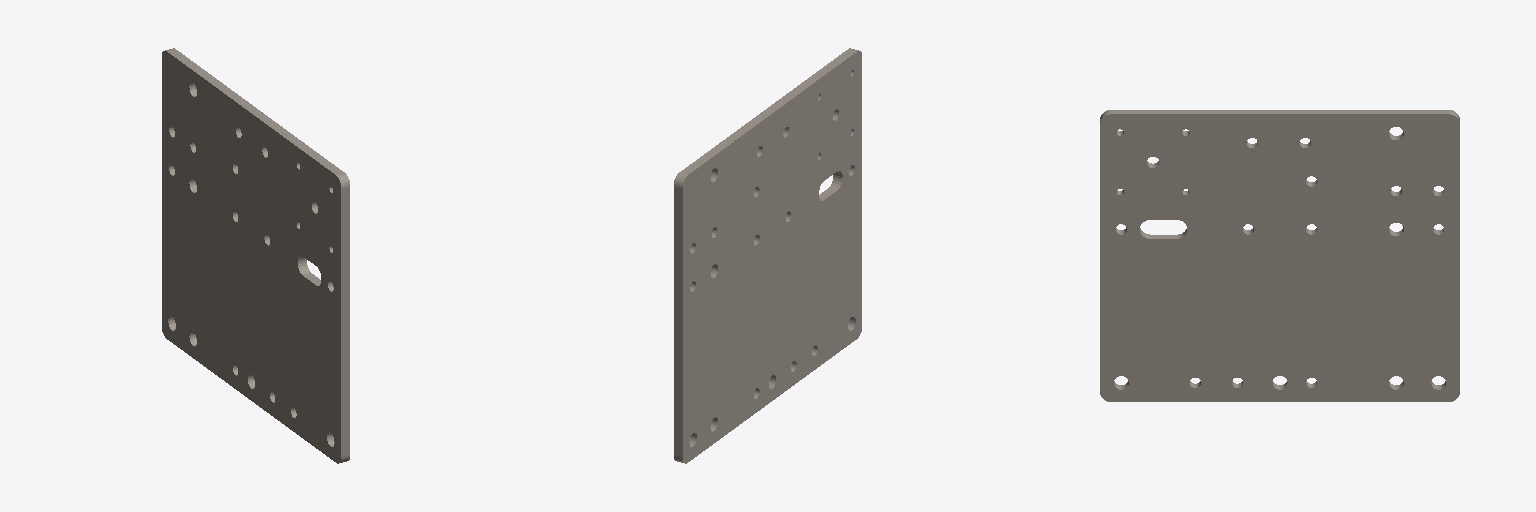
Rendered from crossSlidePlate.obj.
The picture shows the model from 3 angles: view 1: azimuth 30°, elevation 25°; view 2: azimuth 150°, elevation 25°; view 3: azimuth 270°, elevation 25°; orthographic projection.
Parts seen in each view (by area): view 1: Root|Cross-Slide_Plate_(Default)|Default|matte_steel; view 2: Root|Cross-Slide_Plate_(Default)|Default|matte_steel; view 3: Root|Cross-Slide_Plate_(Default)|Default|matte_steel.
Part boxes in pixels (x1,y1,x2,y2): Root|Cross-Slide_Plate_(Default)|Default|matte_steel: (162, 48, 349, 463); Root|Cross-Slide_Plate_(Default)|Default|matte_steel: (674, 48, 861, 463); Root|Cross-Slide_Plate_(Default)|Default|matte_steel: (1100, 110, 1459, 401).
Size of the model in its own units: 0.005 by 0.15 by 0.17.